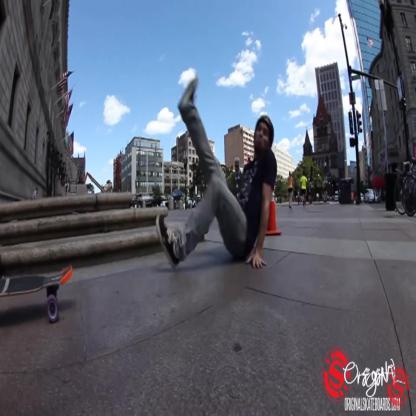Fall_Down: (155, 74, 278, 271)
